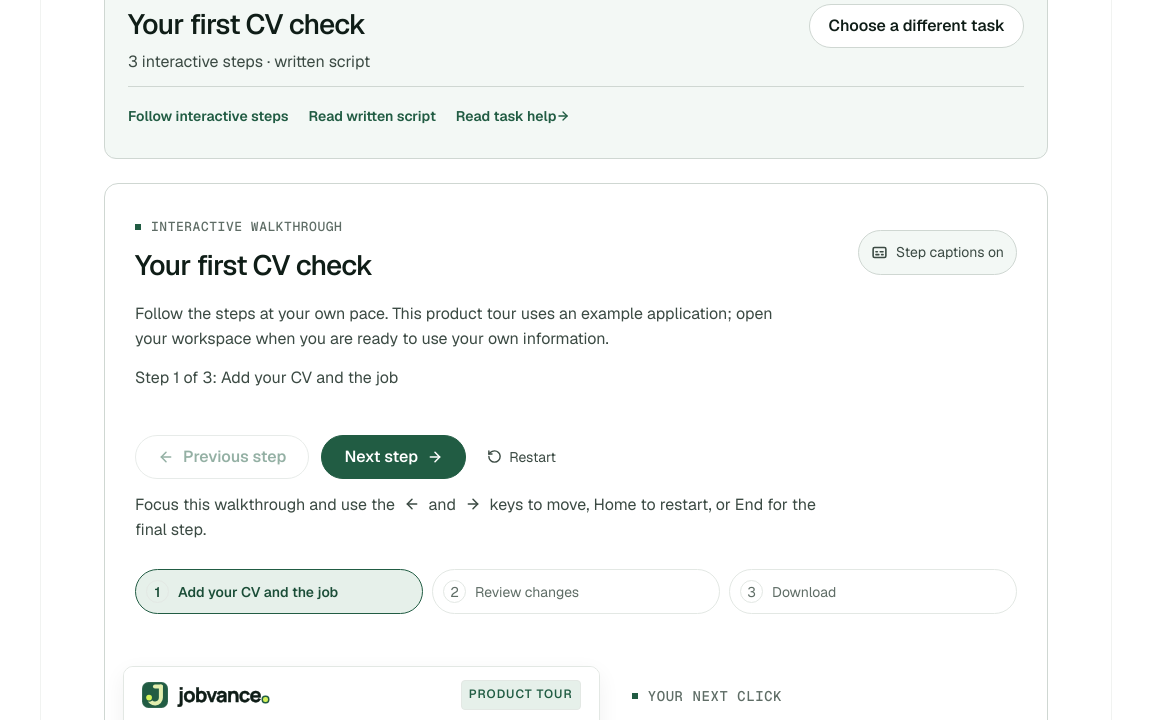
Test: honest interactive walkthroughs › supports next, previous, restart, direct scene choice and captions
(page scrolled)
Expected: the button "Previous step" is disabled, [135, 435, 309, 479]
Click the button "Next step". click: {"x": 394, "y": 457}
box: [321, 435, 466, 479]
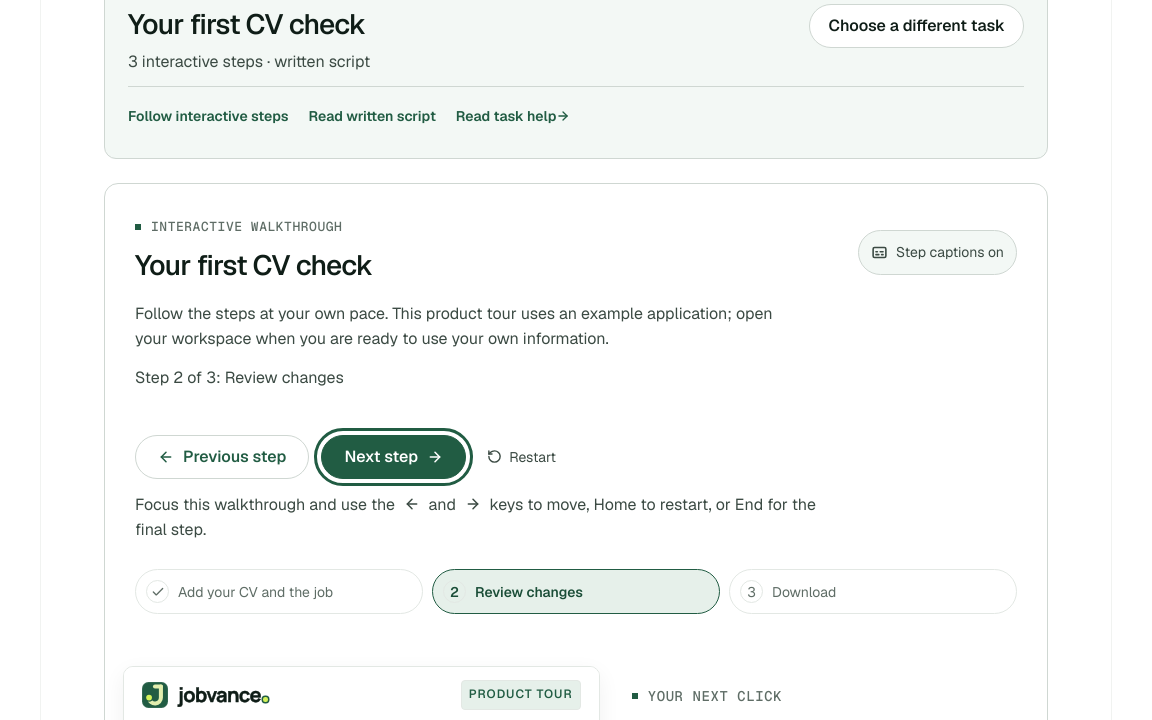
Result: the message reads "Step 2 of 3: Review changes" at [135, 367, 344, 388]
Click the button "Step captions on". click: {"x": 938, "y": 252}
box: [858, 230, 1017, 274]
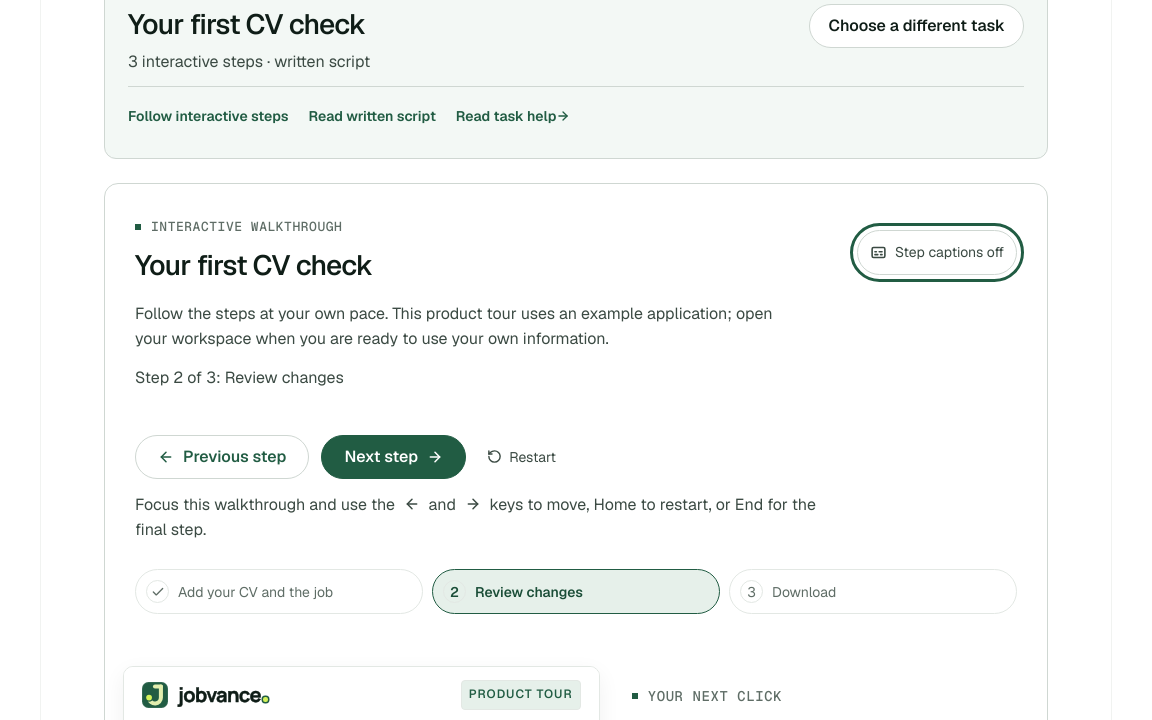
Click the button "Previous step". click: {"x": 222, "y": 457}
box: [135, 435, 309, 479]
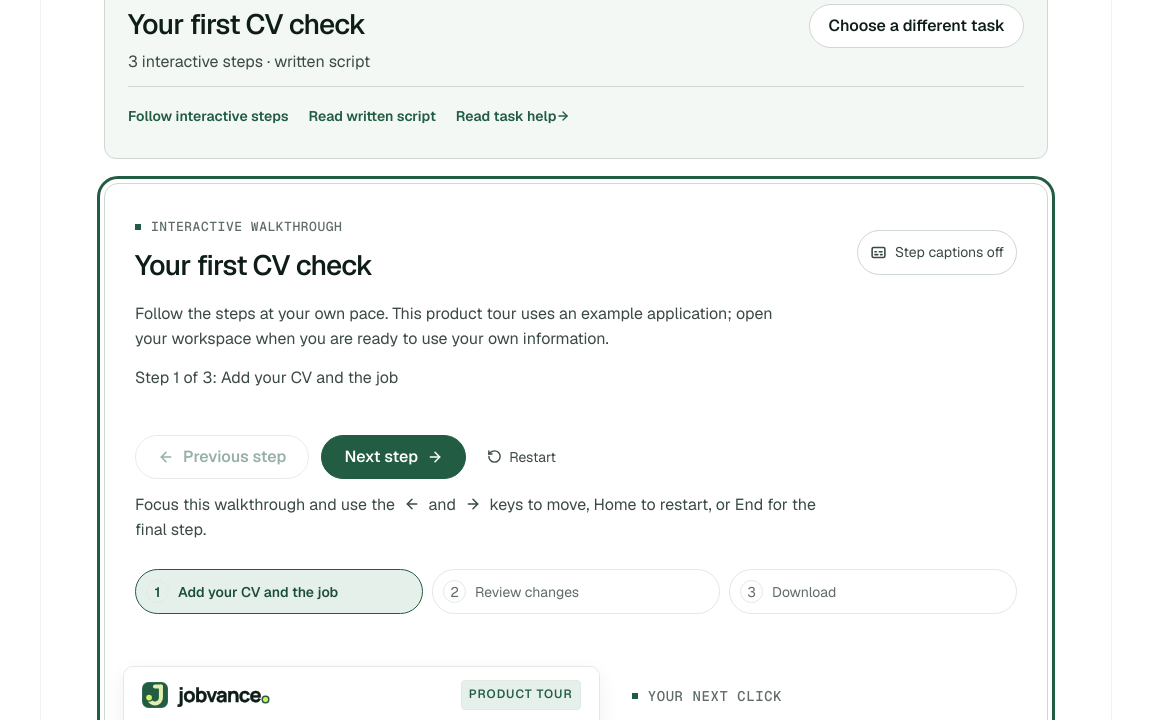
Result: the message shows "Step 1 of 3" at [135, 367, 398, 388]
Click the button "3 Download". click: {"x": 804, "y": 592}
box: [729, 569, 1017, 614]
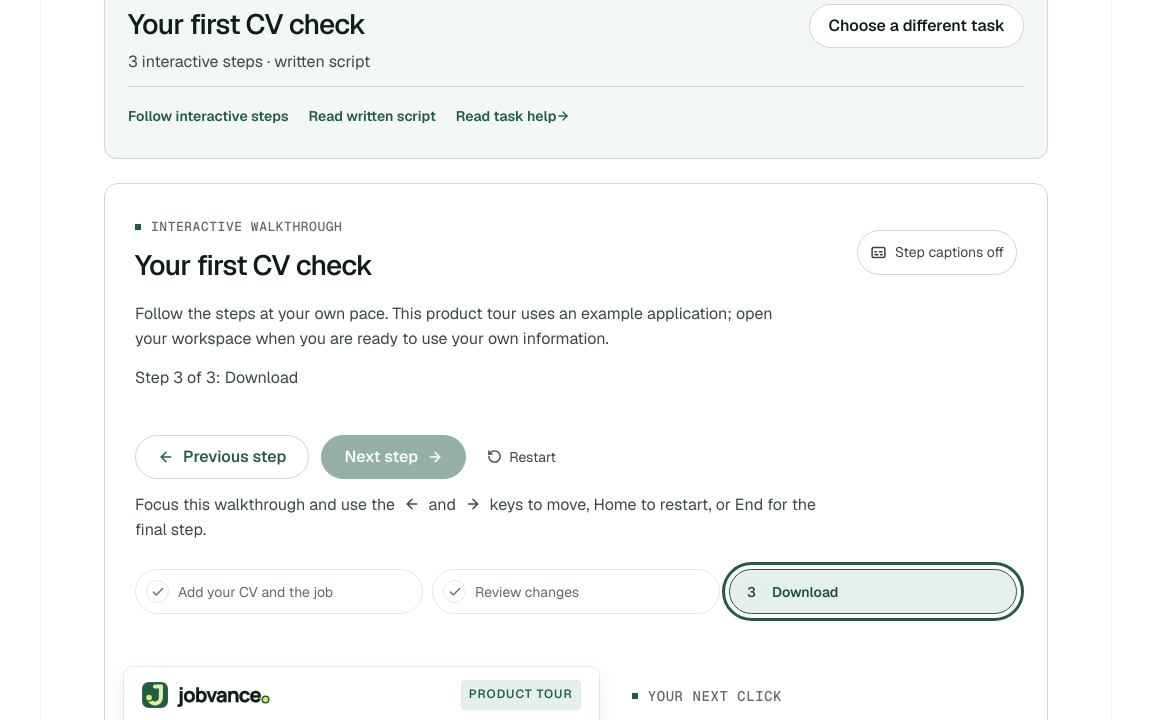
Result: the message reads "Step 3 of 3: Download" at [135, 367, 298, 388]
Result: the button "Next step" is disabled at [321, 435, 466, 479]
Click the button "Restart". click: {"x": 522, "y": 457}
box: [478, 435, 565, 479]
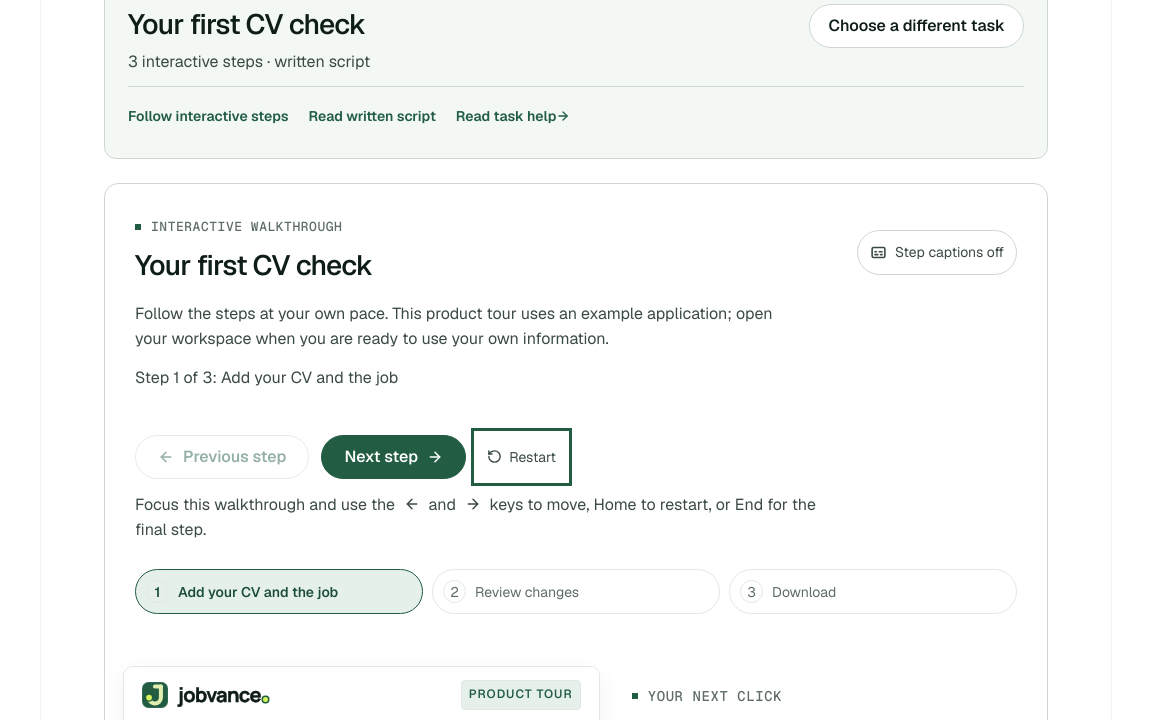
Result: the message shows "Step 1 of 3" at [135, 367, 398, 388]
